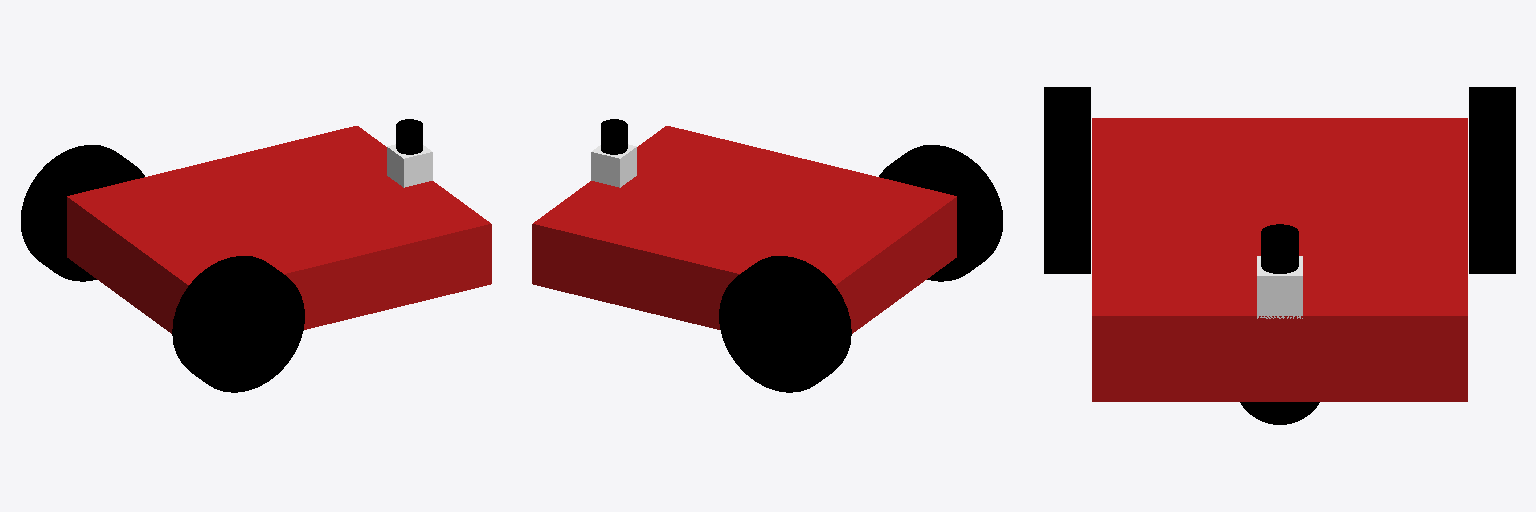
robot.urdf — trail_robo:
<?xml version="1.0" ?>

<robot name="trail_robo" >
    
  <material name="black">
    <color rgba="0.0 0.0 0.0 1.0"/>
  </material>
  <material name="blue">
    <color rgba="0.203125 0.23828125 0.28515625 1.0"/>
  </material>
  <material name="green">
    <color rgba="0.0 0.8 0.0 1.0"/>
  </material>
  <material name="grey">
    <color rgba="0.2 0.2 0.2 1.0"/>
  </material>
  <material name="orange">
    <color rgba="1.0 0.423529411765 0.0392156862745 1.0"/>
  </material>
  <material name="brown">
    <color rgba="0.870588235294 0.811764705882 0.764705882353 1.0"/>
  </material>
  <material name="red">
    <color rgba="0.80078125 0.12890625 0.1328125 1.0"/>
  </material>
  <material name="white">
    <color rgba="1.0 1.0 1.0 1.0"/>
  </material>  
  
  <gazebo reference="chassis">
    <material>Gazebo/Red</material>
  </gazebo>
  <gazebo reference="left_wheel">
    <material>Gazebo/Black</material>
  </gazebo>
  <gazebo reference="right_wheel">
    <material>Gazebo/Black</material>
  </gazebo>

  
<!-- fixed link  
<link name="robot_footprint"></link>
  <joint name="robot_footprint_joint" type="fixed">
    <origin xyz="0 0 0" rpy="0 0 0" />
    <parent link="robot_footprint"/>
    <child link="chassis" />
  </joint>
  
  -->
  
  <!--- trail_robo base link-->
  
    <link name="chassis">
    
    <pose>0 0 0.1 0 0 0</pose>
    
    <inertial>
      <mass value="2"/>
      <origin rpy="0 0 0" xyz="0 0 0"/>
      <inertia ixx="0.028333" ixy="0" ixz="0" iyy="0.04333" iyz="0" izz="0.06833"/>
    </inertial>
    
    <collision name="collision_chassis">
      <geometry>
        <box size="0.5 0.4 0.1"/>
      </geometry>
    </collision>
    
    <visual>
      <origin rpy="0 0 0" xyz="0 0 0"/>
      <geometry>
        <box size="0.5 0.4 0.1"/>
      </geometry>
      <material name="red"/>
    </visual>
    
    
    <inertial>
  	<mass value="0.25"/>
      <origin rpy="0 0 0" xyz="0 0 0"/>
      <inertia ixx="0.0004167" ixy="0" ixz="0" iyy="0.0004167" iyz="0" izz="0.0004167"/>
  </inertial>
     <collision name="caster_collision">
      <origin rpy=" 0 0 0" xyz="0.1914 0 -0.05"/>
      <geometry>
        <sphere radius="0.05"/>
      </geometry>
      <surface>
        <friction>
          <ode>
            <mu>0</mu>
            <mu2>0</mu2>
            <slip1>1.0</slip1>
            <slip2>1.0</slip2>
          </ode>
        </friction>
      </surface>
    </collision>
    <visual name="caster_visual">
      <origin rpy=" 0 0 0" xyz="0.1914 0 -0.05"/>
      <geometry>
        <sphere radius="0.05"/>
      </geometry>
      <material name="black"/>
    </visual>
    
    </link>
  
 <!-- 
  <link name="caster_wheel">
  
  <joint name="joint_caster_wheel" type="fixed">
    <origin rpy="0 0 0" xyz="0.19490 0 -0.05"/>   
    <parent link="chassis"/>
    <child link="caster_wheel" />
    <axis rpy="0 0 0" xyz="0 0 0"/>
  </joint>  
  
  -->
  
  
  <!-- Create wheel right -->  
    
  <link name="right_wheel">    
    <inertial>
      <mass value="0.2"/>
      <origin xyz="0 -0.025 0" rpy="1.5707 0 0"/>
      <inertia ixx="0.0005417" ixy="0" ixz="0" iyy="0.0005417" iyz="0" izz="0.001"/>
    </inertial>
    
    <collision name="right_wheel_collision">
       <origin xyz="0 -0.025 0" rpy="1.5707 0 0"/>
      <geometry>
        <cylinder length="0.05" radius="0.1"/>
      </geometry>
    </collision>
    
    <visual name="right_wheel_visual">
       <origin xyz="0 -0.025 0" rpy="1.5707 0 0"/>
      <geometry>
        <cylinder length="0.05" radius="0.1"/>
      </geometry>  
      <material name="black"/>    
    </visual>
    
  </link>
    
  <!--   Joint for right wheel  -->
  <joint name="joint_right_wheel" type="continuous">
    <origin rpy="0 0 0" xyz="-0.2 -0.201 0"/>
    
    <parent link="chassis"/>
    <child link="right_wheel" />
    <axis xyz="0 -1 0"/>

   </joint>
    
  <!-- Left Wheel link -->
    
  <link name="left_wheel">    
    <inertial>
      <mass value="0.2"/>
      <origin rpy="1.5707 0 0" xyz="0 0.025 0"/>
     <inertia ixx="0.0005417" ixy="0" ixz="0" iyy="0.0005417" iyz="0" izz="0.001"/>
    </inertial>
    
    <collision name="left_wheel_collision">
      <origin rpy="1.5707 0 0" xyz="0 0.025 0" />
      <geometry>
        <cylinder length="0.05" radius="0.1"/>
      </geometry>
    </collision>
    
    <visual name="left_wheel_visual">
      <origin rpy="1.5707 0 0" xyz="0 0.025 0"/>
      <geometry>
        <cylinder length="0.05" radius="0.1"/>
      </geometry>   
      <material name="black"/>    
    </visual>
    
  </link>
    
  <!--   Joint for left wheel  -->
  <joint name="joint_left_wheel" type="continuous">
    <origin rpy="0 0 0" xyz="-0.2 0.201 0"/>
    <child link="left_wheel" />
    <parent link="chassis"/>
    <axis rpy="0 0 0" xyz="0 1 0"/>
   
  </joint>    
  
  
  <!--Camera-->
  
  <link name="camera">
  <inertial>
    <origin xyz="0.0 0.0 0.0" rpy="0.0 0.0 0.0"/>
    <mass value="0.1"/>
    <inertia ixx="1e-6" ixy="0.0" ixz="0.0" iyy="1e-6" iyz="0.0" izz="1e-6"/>
  </inertial>

  <visual name="camera_visual">
    <origin xyz="0.0 0.0 0.0" rpy="0.0 0.0 0.0"/>
    <geometry>
      <box size="0.05 0.05 0.05"/>
    </geometry>
    <material name="white"/>
  </visual>
  <collision>
    <origin xyz="0.0 0.0 0.0" rpy="0.0 0.0 0.0"/>
    <geometry>
      <box size="0.05 0.05 0.05"/>
    </geometry>
    
  </collision>
</link>

<joint name="camera_head_joint" type="fixed">
  <origin xyz="0.225 0 0.0725" rpy="0.0 0 0"/>
  <parent link="chassis"/>
  <child link="camera"/>
  <axis xyz="0 0 0.0"/>
  <limit lower="0.0" upper="0.0" effort="0.0" velocity="0.0"/>
</joint>
  

<link name="sensor_hokuyo">
  <inertial>
    <origin xyz="0.0 0.0 0.0" rpy="0.0 0.0 0.0"/>
    <mass value="0.1"/>
    <inertia ixx="1e-6" ixy="0.0" ixz="0.0" iyy="1e-6" iyz="0.0" izz="1e-6"/>
  </inertial>

  <visual>
    <origin xyz="0.0 0.0 0.0" rpy="0.0 0.0 0.0"/>
    <geometry>
      <cylinder radius="0.02" length="0.04"/>
    </geometry>
    <material name="black"/>
  </visual>
  <collision>
    <origin xyz="0.0 0.0 0.0" rpy="0.0 0.0 0.0"/>
    <geometry>
      <cylinder radius="0.02" length="0.04"/>
    </geometry>
    
  </collision>
</link>

<joint name="sensor_head_joint" type="fixed">
  <origin xyz="0 0 0.045" rpy="0.0 0 0"/>
  <parent link="camera"/>
  <child link="sensor_hokuyo"/>
  <axis xyz="0 0 0.0"/>
</joint>
  
  
  <!-- Plugins -->
  
 <gazebo>
    <plugin name="differential_drive_controller" filename="libgazebo_ros_diff_drive.so">
      <legacyMode>false</legacyMode>
      <alwaysOn>true</alwaysOn>
      <updateRate>10</updateRate>
      <leftJoint>joint_left_wheel</leftJoint>
      <rightJoint>joint_right_wheel</rightJoint>
      <wheelSeparation>0.5</wheelSeparation>
      <wheelDiameter>0.2</wheelDiameter>
      <torque>100</torque>
      <commandTopic>cmd_vel</commandTopic>
      <odometryTopic>odom</odometryTopic>
      <odometryFrame>odom</odometryFrame>
      <robotBaseFrame>chassis</robotBaseFrame>
      <publishWheelTF>false</publishWheelTF>
      <publishWheelJointState>false</publishWheelJointState>
      <rosDebugLevel>na</rosDebugLevel>
      <wheelAcceleration>0</wheelAcceleration>
      <wheelTorque>50</wheelTorque>
      <odometrySource>world</odometrySource>
      <publishTf>1</publishTf>
      <publishOdomTF>true</publishOdomTF>
    </plugin>
  </gazebo>
  
  
  
  <gazebo reference="camera">
    <sensor type="camera" name="camera1">
      <update_rate>30.0</update_rate>
      <camera name="head">
        <horizontal_fov>1.3962634</horizontal_fov>
        <image>
          <width>800</width>
          <height>800</height>
          <format>R8G8B8</format>
        </image>
        <clip>
          <near>0.02</near>
          <far>300</far>
        </clip>
      </camera>
      <plugin name="camera_controller" filename="libgazebo_ros_camera.so">
        <alwaysOn>true</alwaysOn>
        <updateRate>0.0</updateRate>
        <cameraName>camera</cameraName>
        <imageTopicName>rgb/image_raw</imageTopicName>
        <cameraInfoTopicName>rgb/camera_info</cameraInfoTopicName>
        <frameName>camera</frameName>
        <hackBaseline>0.07</hackBaseline>
        <distortionK1>0.0</distortionK1>
        <distortionK2>0.0</distortionK2>
        <distortionK3>0.0</distortionK3>
        <distortionT1>0.0</distortionT1>
        <distortionT2>0.0</distortionT2>
      </plugin>
    </sensor>
  </gazebo>
  
  <gazebo reference="sensor_hokuyo">
    <sensor type="ray" name="head_hokuyo_sensor">
      <pose>0 0 0 0 0 0</pose>
      <visualize>false</visualize>
      <update_rate>40</update_rate>
      <ray>
        <scan>
          <horizontal>
            <samples>720</samples>
            <resolution>1</resolution>
            <min_angle>-1.570796</min_angle>
            <max_angle>1.570796</max_angle>
          </horizontal>
        </scan>
        <range>
          <min>0.10</min>
          <max>30.0</max>
          <resolution>0.01</resolution>
        </range>
        <noise>
          <type>gaussian</type>
          <!-- Noise parameters based on published spec for Hokuyo laser
               achieving "+-30mm" accuracy at range < 10m.  A mean of 0.0m and
               stddev of 0.01m will put 99.7% of samples within 0.03m of the true
               reading. -->
          <mean>0.0</mean>
          <stddev>0.01</stddev>
        </noise>
      </ray>
      <plugin name="gazebo_ros_head_hokuyo_controller" filename="libgazebo_ros_laser.so">
        <topicName>hokuyo/scan</topicName>
        <frameName>sensor_hokuyo</frameName>
      </plugin>
    </sensor>
  </gazebo>
  
</robot>

--- What the picture shows (computed from the rendered views, not written in the file) ---
3 views of the same robot in one strip: view 1: azimuth 30°, elevation 25°; view 2: azimuth 150°, elevation 25°; view 3: azimuth 270°, elevation 25° (orthographic).
Model trail_robo with 5 links and 4 joints (2 continuous, 2 fixed), rooted at chassis, posed every joint at zero.
Links seen in each view (by area): view 1: chassis, right_wheel, left_wheel, camera, sensor_hokuyo; view 2: chassis, left_wheel, right_wheel, camera, sensor_hokuyo; view 3: chassis, right_wheel, left_wheel, camera, sensor_hokuyo.
Boxes of the visible links, box(x1,y1,x2,y2) form: chassis: box(67, 126, 491, 333); right_wheel: box(172, 256, 304, 392); left_wheel: box(21, 145, 144, 281); camera: box(387, 144, 432, 187); sensor_hokuyo: box(396, 119, 422, 154); chassis: box(532, 126, 956, 333); left_wheel: box(719, 256, 851, 392); right_wheel: box(879, 145, 1002, 281); camera: box(591, 144, 636, 187); sensor_hokuyo: box(601, 119, 627, 154); chassis: box(1092, 118, 1467, 424); right_wheel: box(1044, 87, 1090, 273); left_wheel: box(1469, 87, 1515, 273); camera: box(1257, 256, 1302, 318); sensor_hokuyo: box(1261, 224, 1298, 273).
Bounding box of the posed robot: 0.55 × 0.502 × 0.2375 m (x, y, z).
Geometry: primitives only (box / cylinder / sphere), no mesh files.
